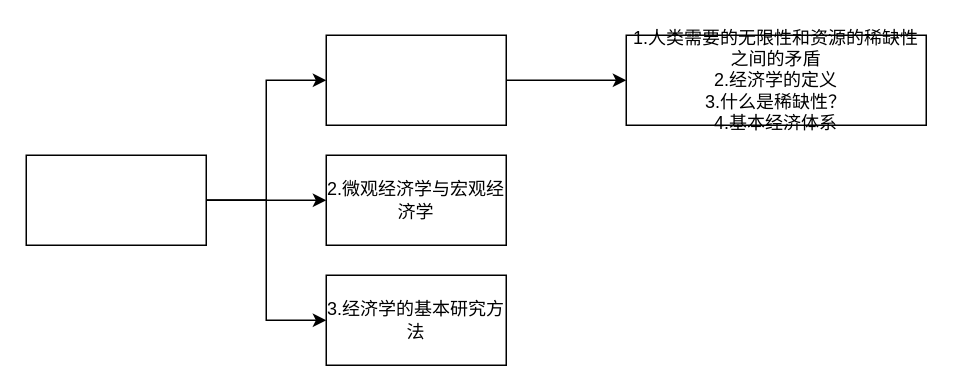
The diagram is 953 pixels wide and 392 high, and some of its shapes have lost their labels. The centre of each missing label's shape, as x and y in pixels:
1.经济学定义: (x=415, y=79)
经济学导论: (x=115, y=199)
